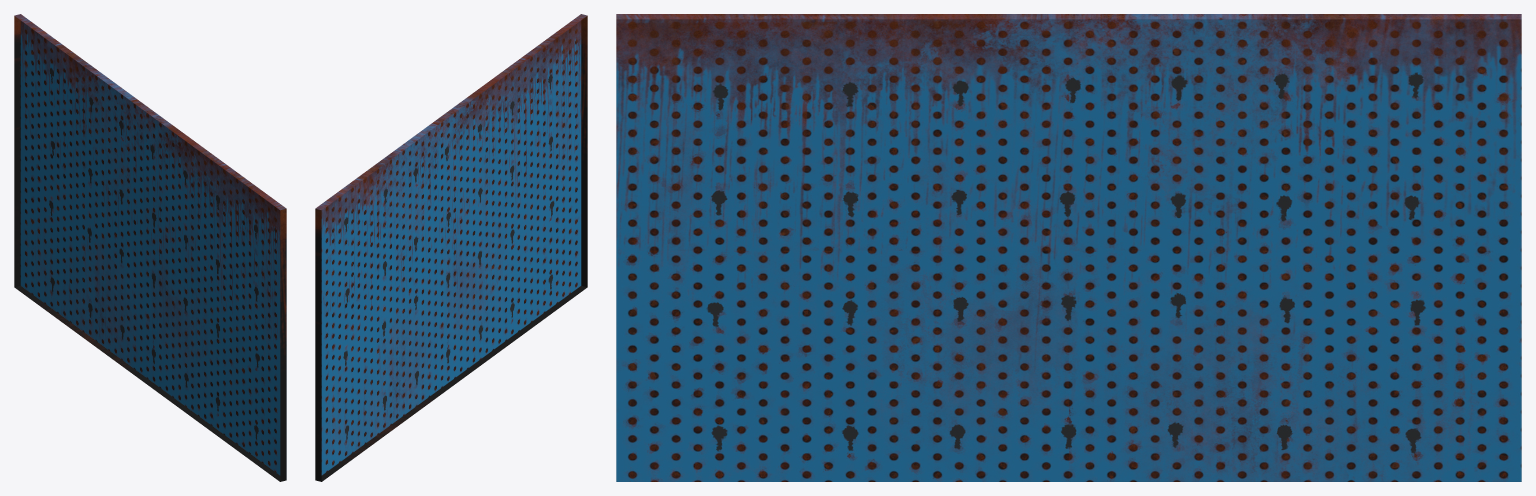
Rendered from tool_storage_board.glb.
3 views of the same model, side by side, from view 1: azimuth 30°, elevation 25°; view 2: azimuth 150°, elevation 25°; view 3: azimuth 270°, elevation 25° (orthographic). The views are drawn at different scales.
Visible parts, largest first — view 1: SM_tool_wall; view 2: SM_tool_wall; view 3: SM_tool_wall.
Part boxes in pixels (left/top/right/bottom): SM_tool_wall: left=14, top=14, right=286, bottom=481; SM_tool_wall: left=315, top=14, right=587, bottom=481; SM_tool_wall: left=616, top=14, right=1521, bottom=481.
Size of the model in its own units: 3.21 by 126 by 224.
Materials: 1 (1 with a texture image).
